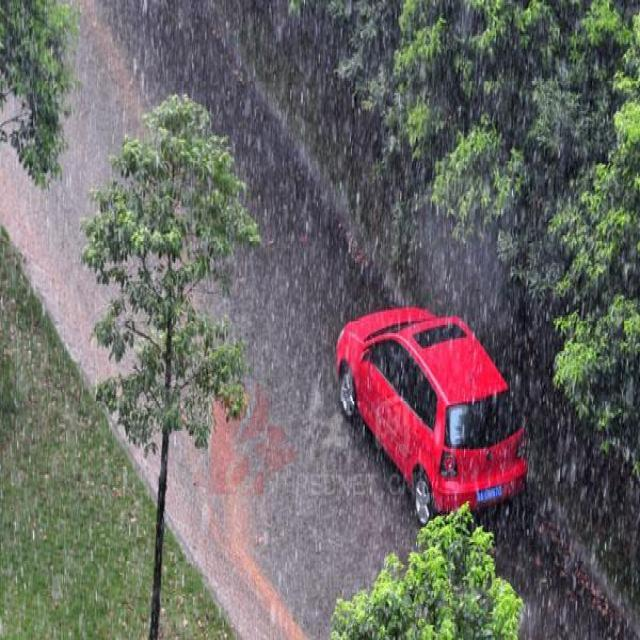car: (334, 304, 524, 522)
